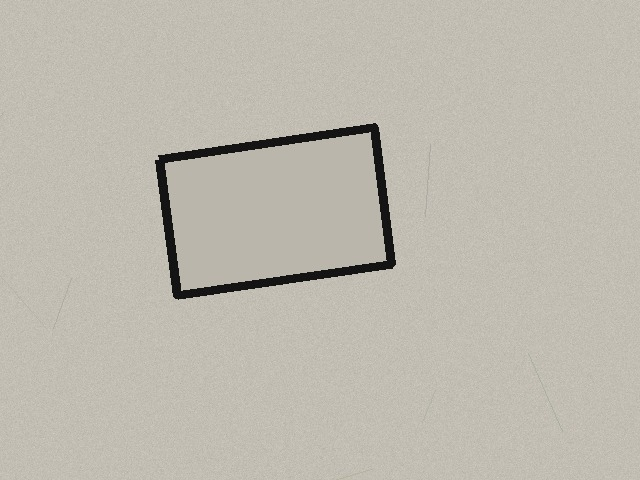parking_area: (159, 127, 391, 295)
